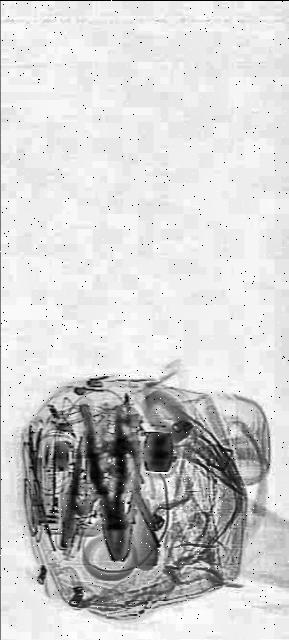Pliers: (80, 392, 132, 568)
